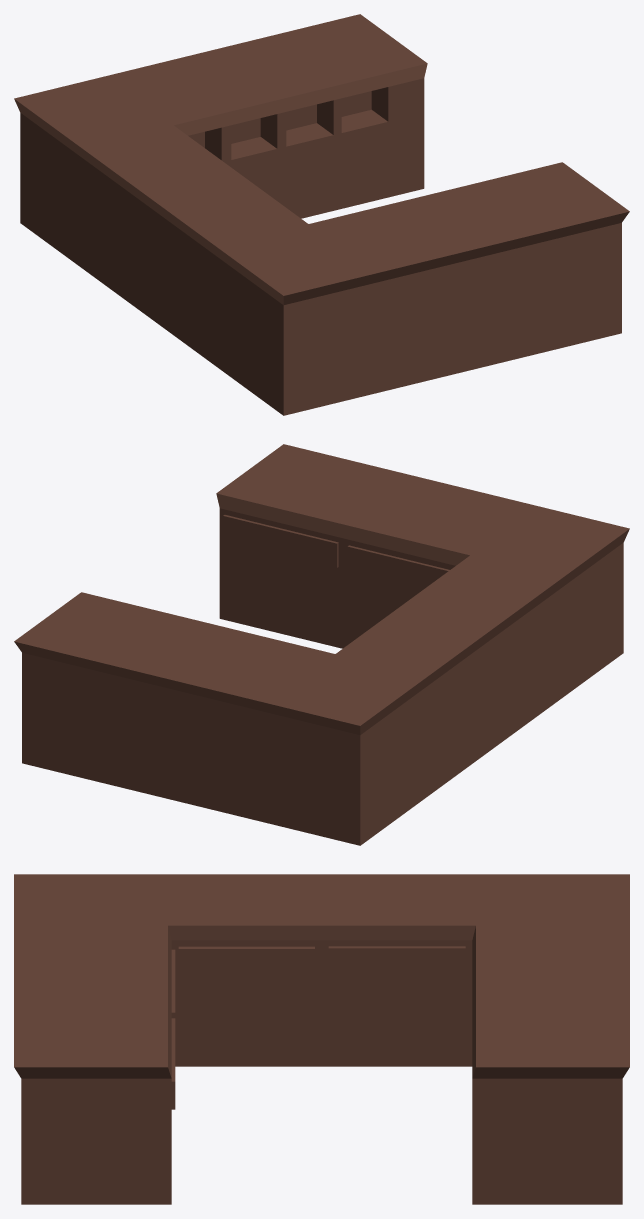
File: counter proto.fbx
3 views of the same model, one above another, from view 1: azimuth 30°, elevation 25°; view 2: azimuth 150°, elevation 25°; view 3: azimuth 270°, elevation 25° (orthographic). The views are drawn at different scales.
Parts seen in each view (by area): view 1: counter; view 2: counter; view 3: counter.
Boxes of the visible parts, bbox=[...] form: counter: bbox=[14, 14, 629, 415]; counter: bbox=[14, 444, 629, 845]; counter: bbox=[14, 874, 629, 1204].
Bounding box in the file's own units: 655 × 222 × 884.
